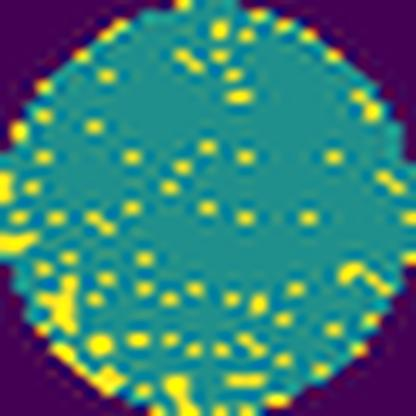Loc: (38, 273, 85, 336)
